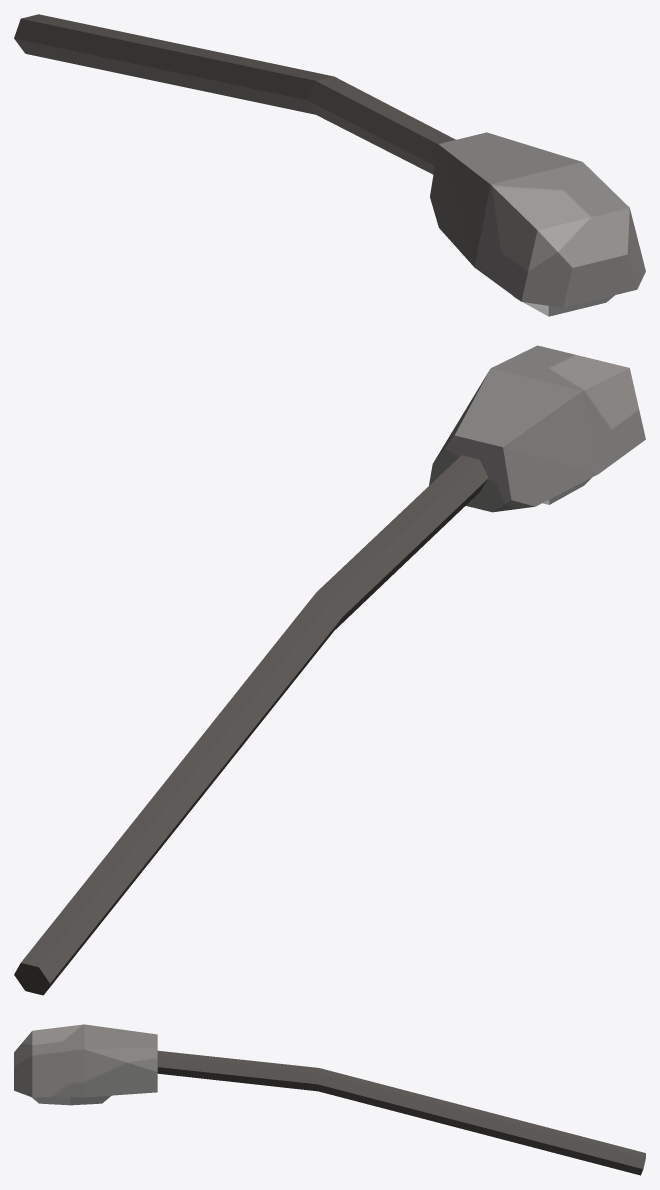
The model's file is SM_Prop_Street_Light_01.glb.
3 renders of one model, top to bottom at view 1: azimuth 30°, elevation 25°; view 2: azimuth 150°, elevation 25°; view 3: azimuth 270°, elevation 25°, orthographic. The views are drawn at different scales.
Parts seen in each view (by area): view 1: SM_Prop_Street_Light_01; view 2: SM_Prop_Street_Light_01; view 3: SM_Prop_Street_Light_01.
Part boxes in pixels (bbox=[...]): SM_Prop_Street_Light_01: bbox=[14, 14, 645, 316]; SM_Prop_Street_Light_01: bbox=[14, 345, 645, 995]; SM_Prop_Street_Light_01: bbox=[14, 1024, 645, 1175].
Bounding box in the file's own units: 0.3443 × 0.6493 × 2.73.
1 material, 1 textured.
